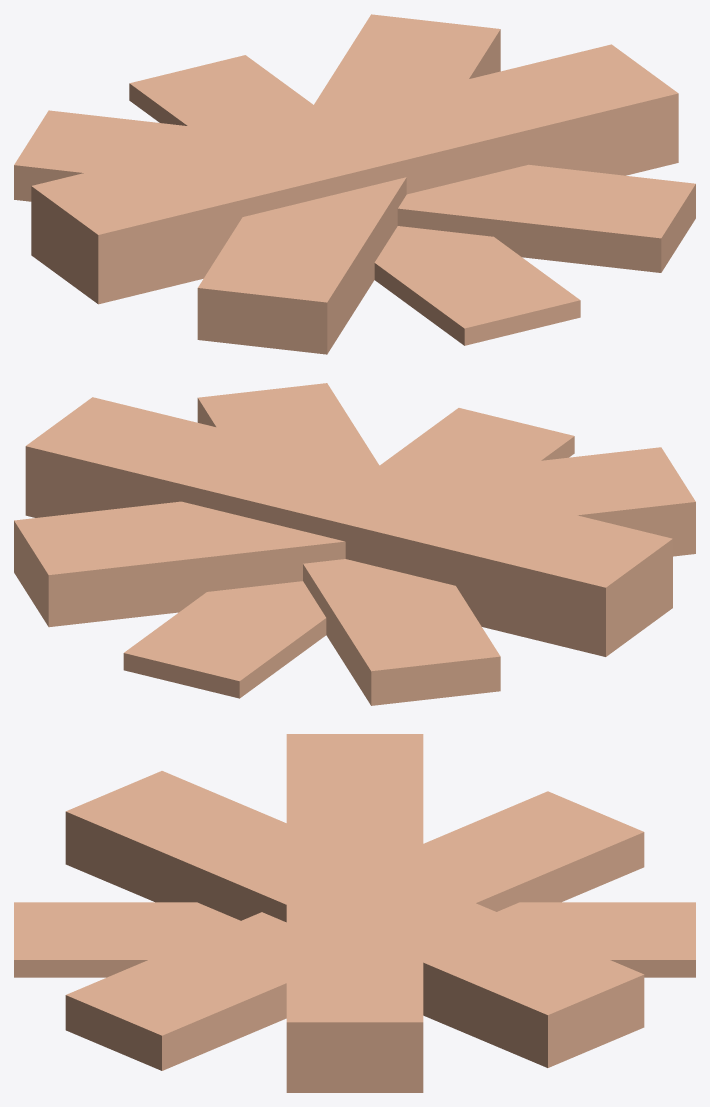
Rendered from campfire_planks.glb.
3 views of the same model, one above another, from view 1: azimuth 30°, elevation 25°; view 2: azimuth 150°, elevation 25°; view 3: azimuth 270°, elevation 25° (orthographic).
Visible parts, largest first — view 1: campfire_planks; view 2: campfire_planks; view 3: campfire_planks.
Boxes of the visible parts, x1,y1,x2,y2 form: campfire_planks: (14,14,695,354); campfire_planks: (14,383,695,705); campfire_planks: (14,734,695,1092).
Size of the model in its own units: 0.42 by 0.048 by 0.42.
